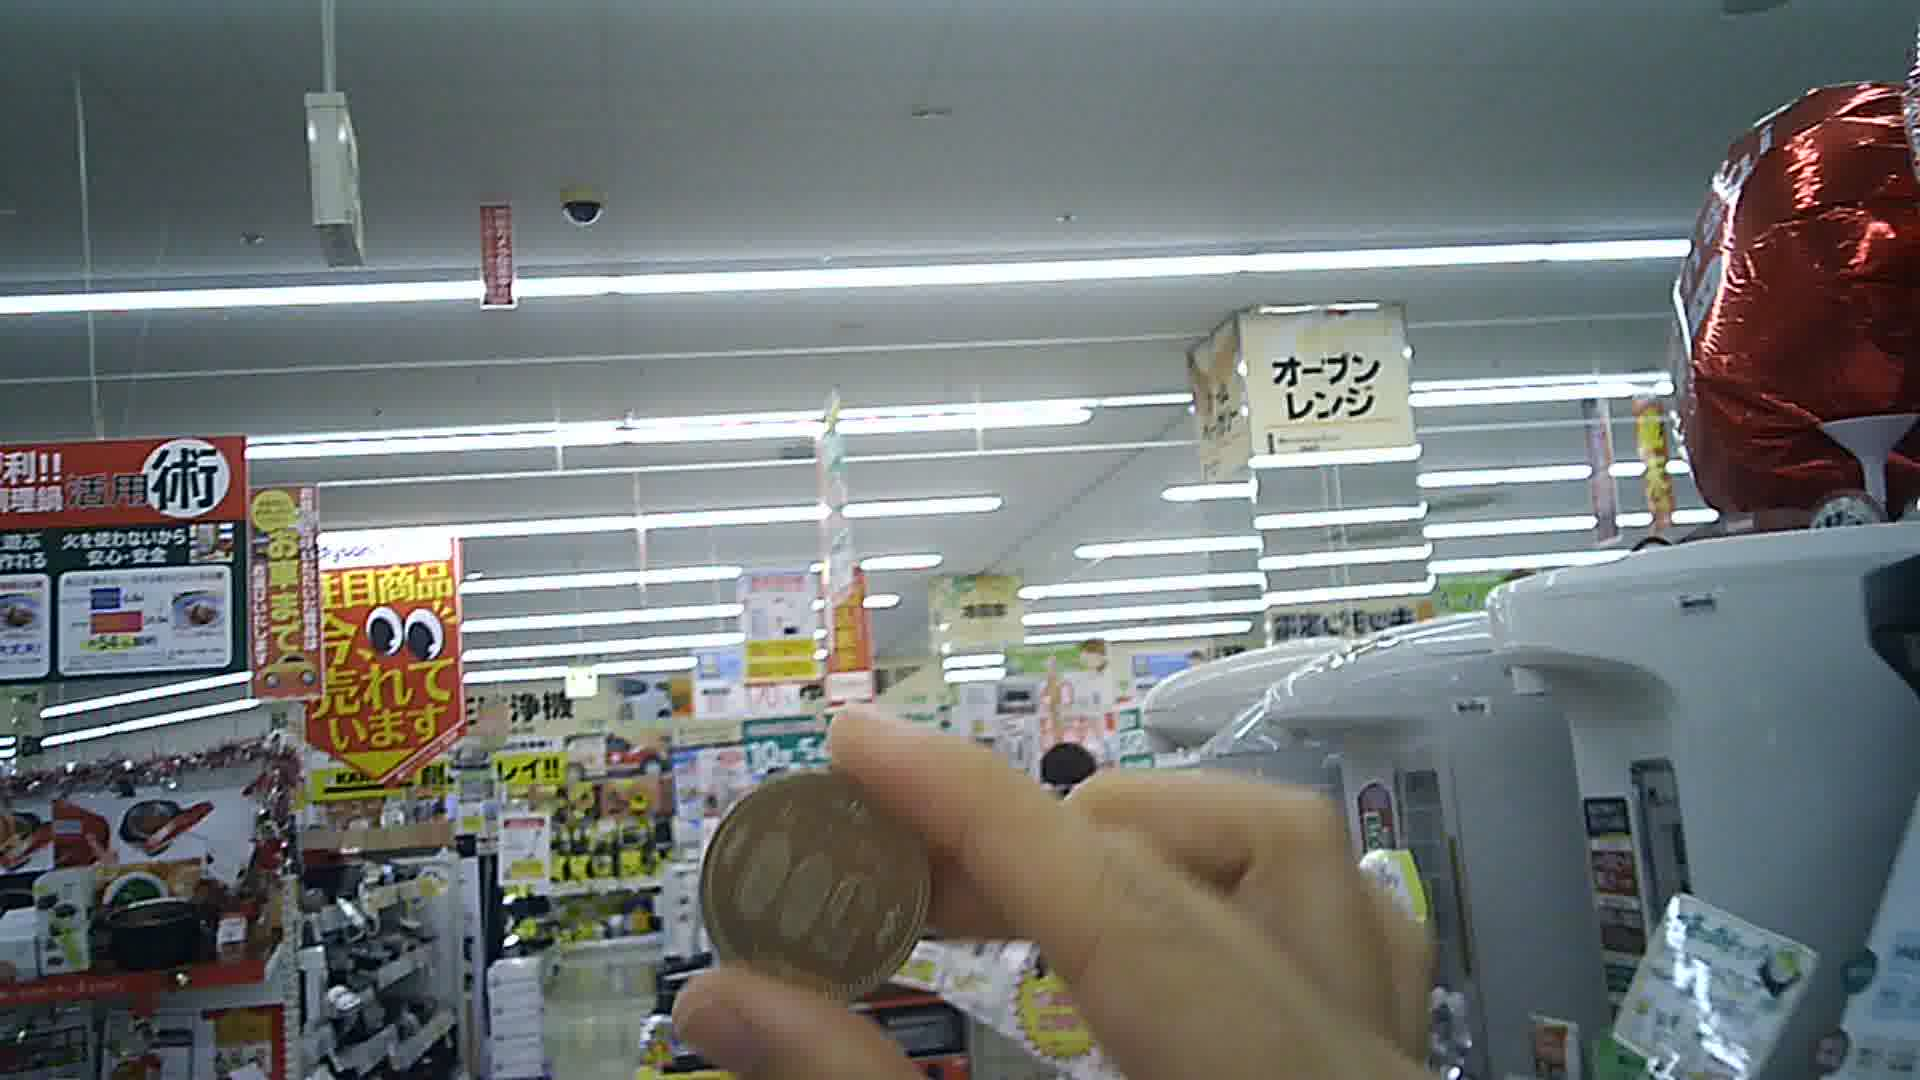500 Yen: (698, 764, 934, 1007)
